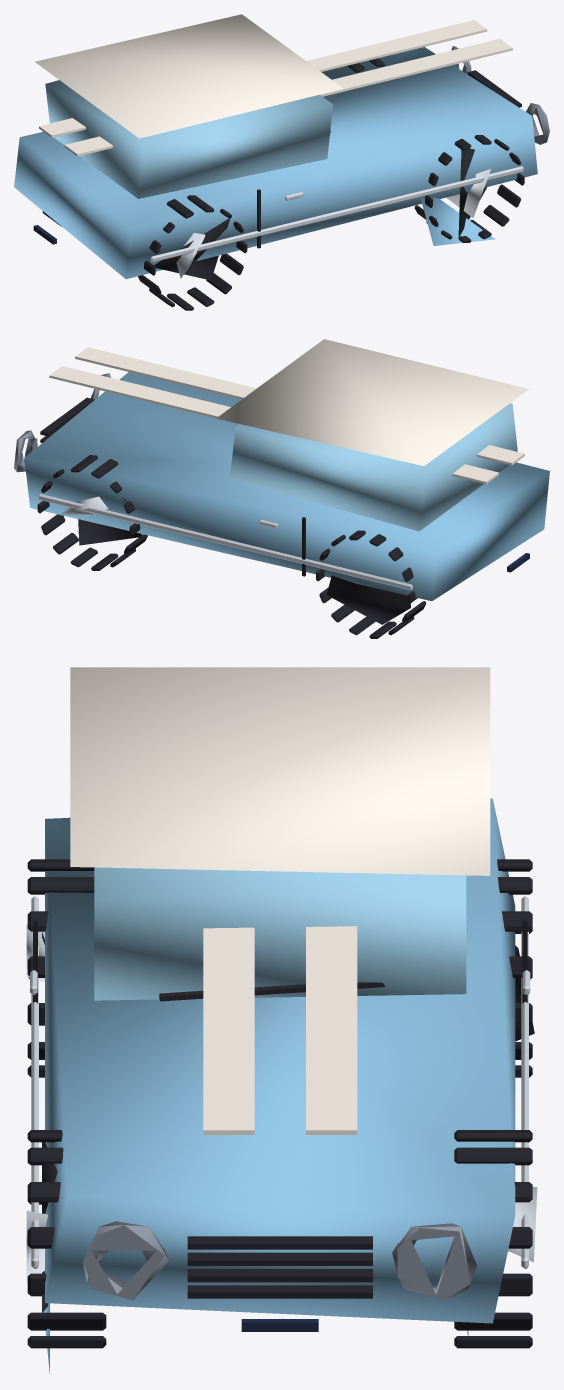
File: car_c.glb
3 views of the same model, one above another, from view 1: azimuth 30°, elevation 25°; view 2: azimuth 150°, elevation 25°; view 3: azimuth 270°, elevation 25° (orthographic). The views are drawn at different scales.
Parts seen in each view (by area): view 1: car_c; view 2: car_c; view 3: car_c.
Part boxes in pixels (box(x1,y1,x2,y2)): car_c: box(14, 14, 549, 310); car_c: box(14, 339, 549, 638); car_c: box(26, 667, 537, 1373).
Bounding box in the file's own units: 4.18 × 1.57 × 1.99.
1 material, 1 textured.
